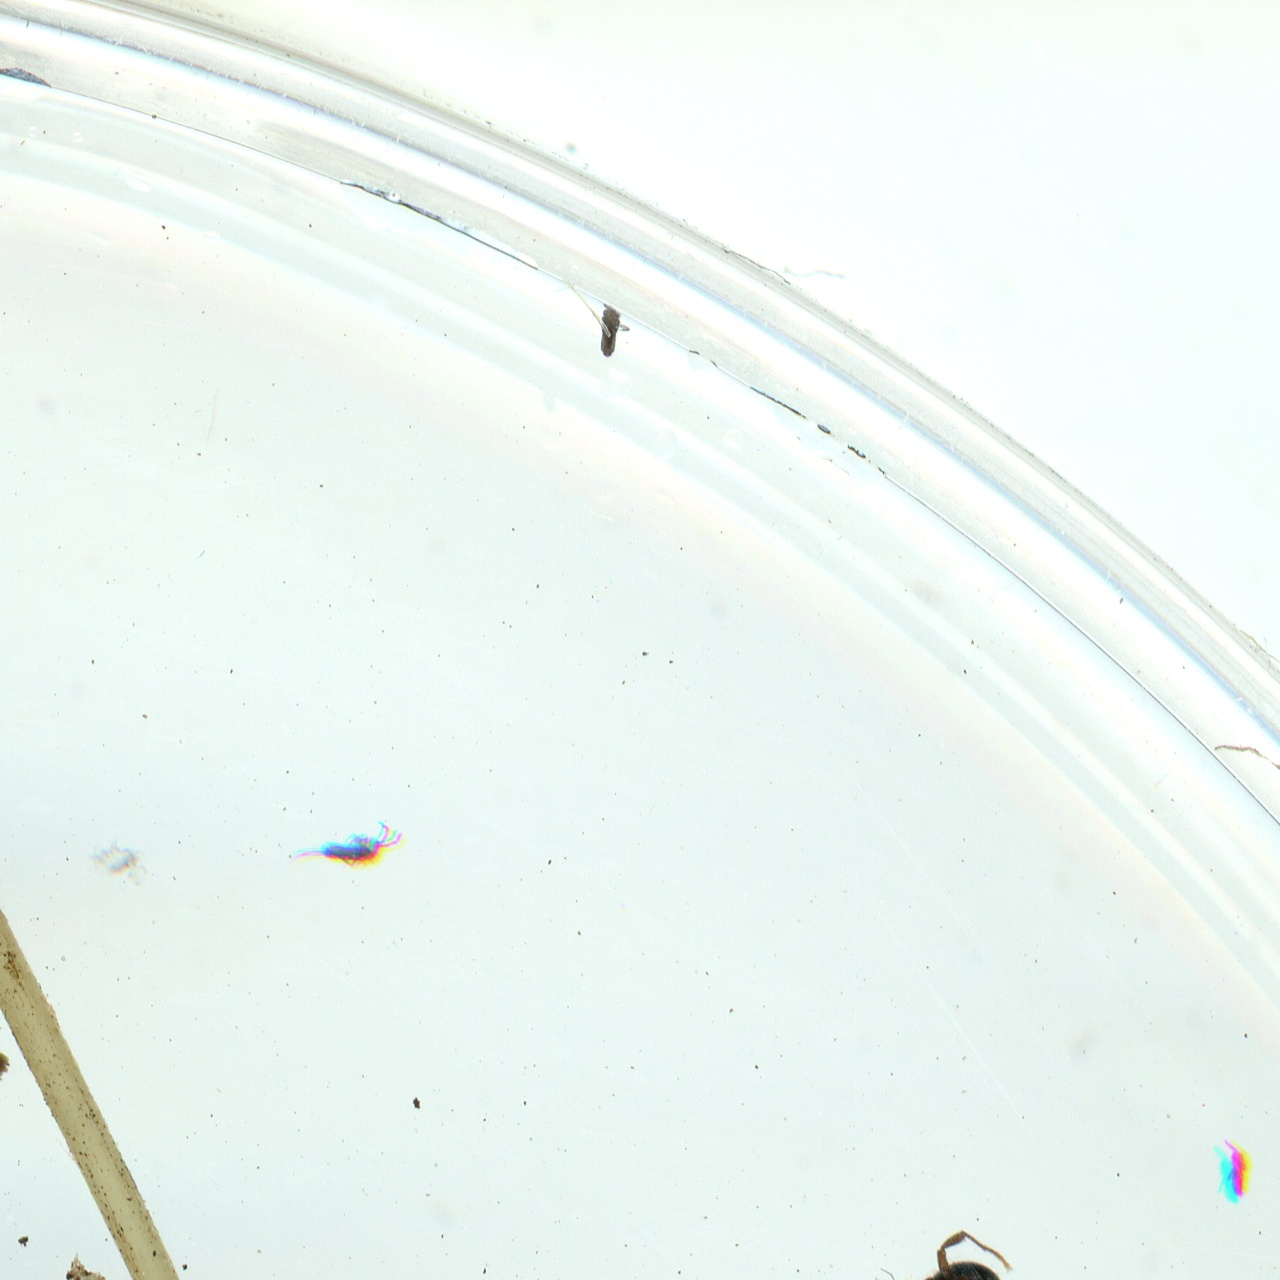arthropod: (868, 1226, 1017, 1280), (284, 815, 411, 876), (1207, 1135, 1255, 1204), (595, 302, 636, 360)
